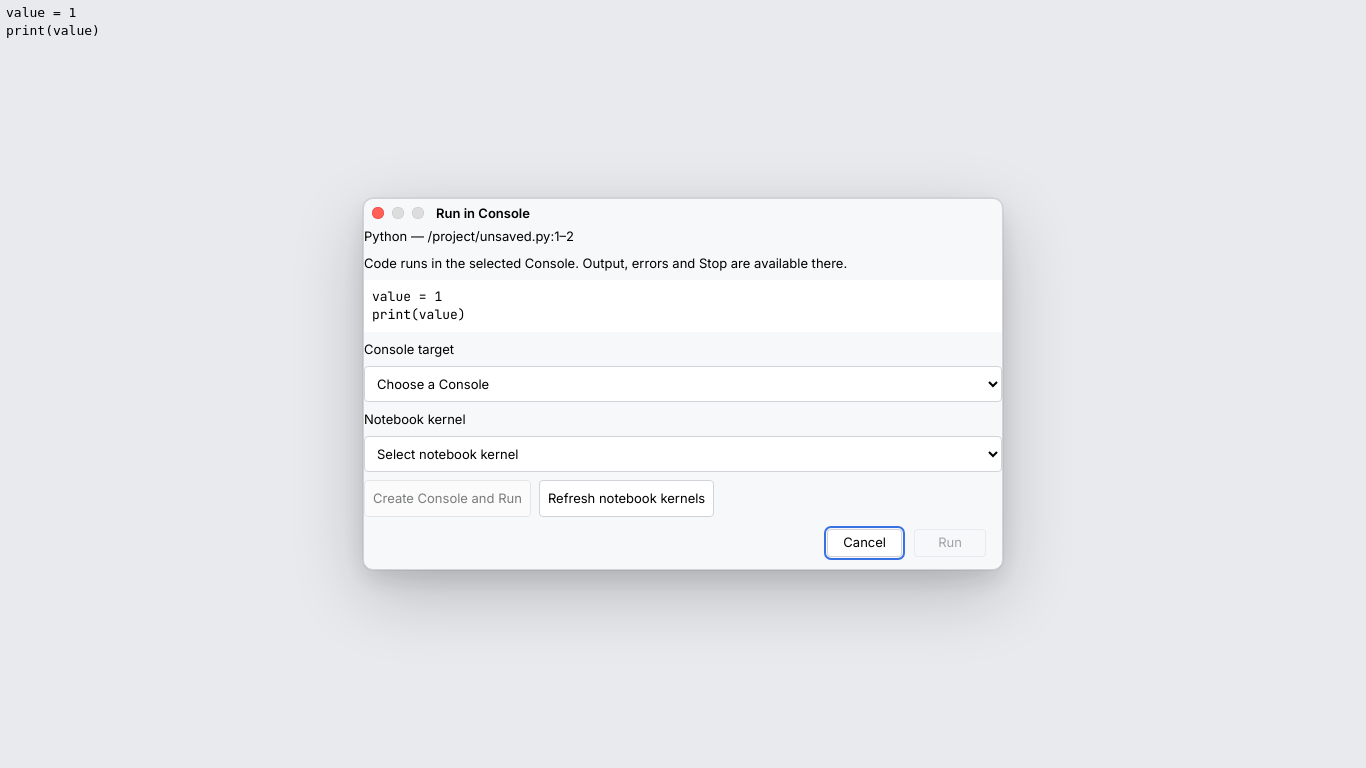
it: Editor Run actions and DOM (mock U7 boundary) › Cancel dismisses the picker without executing or creating
Select "python-one — /env/python (0)" in the dropdown labelled "Console target": (683, 384) [364,366,1002,402]
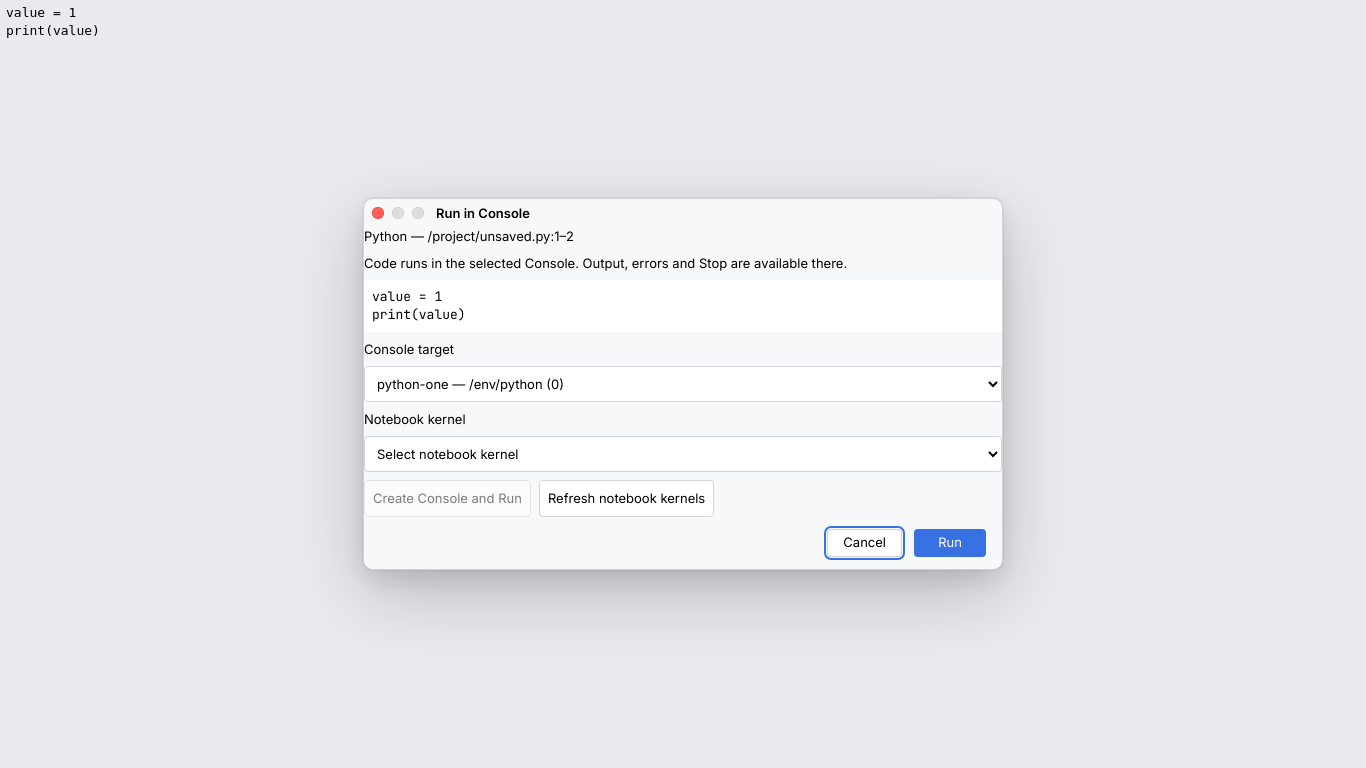
Click the button "Cancel": (865, 543) [827,529,902,557]
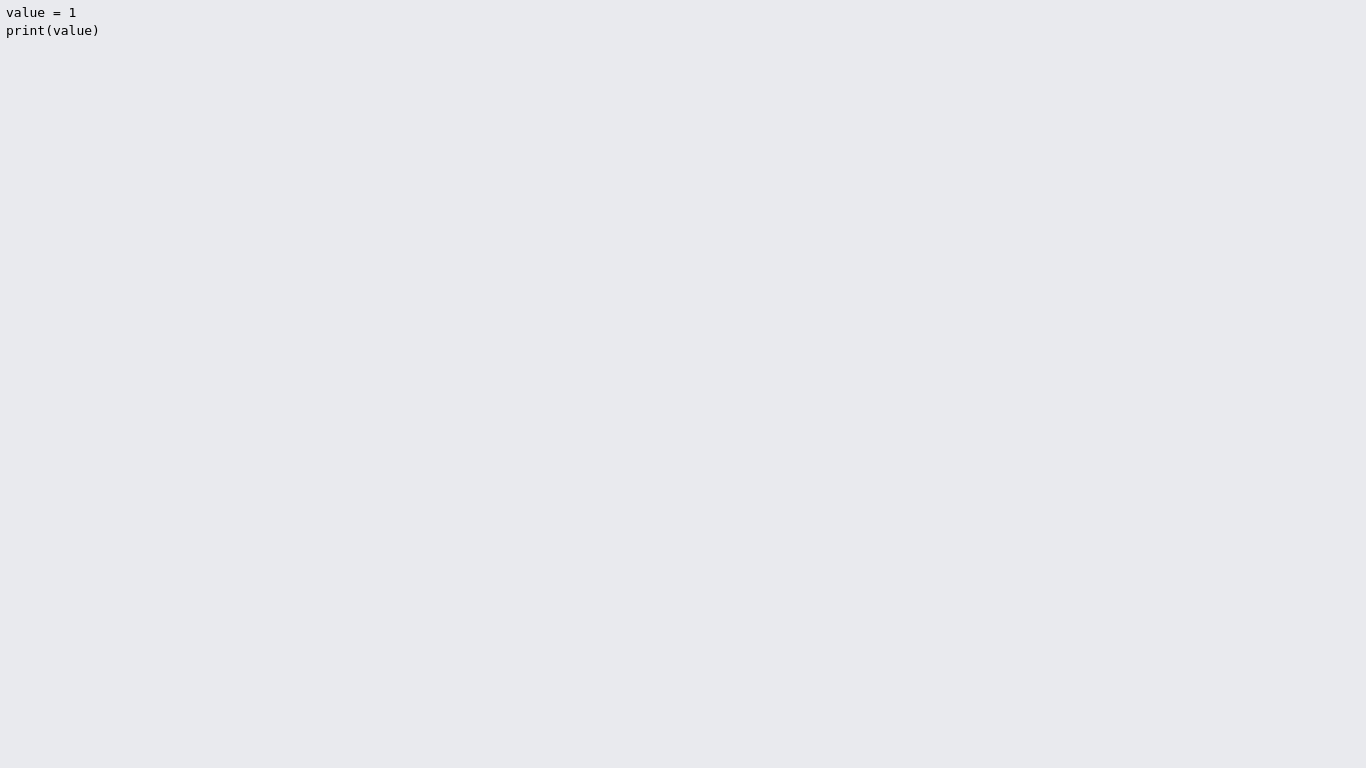
Now the dialog is gone
